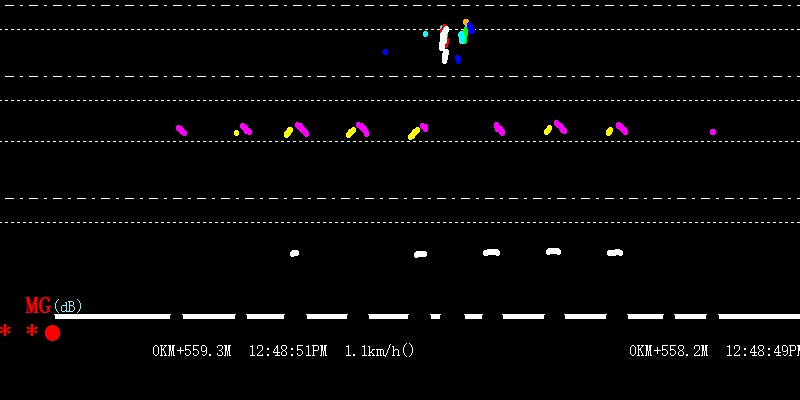J: (437, 4, 474, 65)
circle: (44, 323, 60, 343)
face_down: (422, 21, 432, 41)
star: (24, 320, 40, 338), (1, 320, 12, 339)
